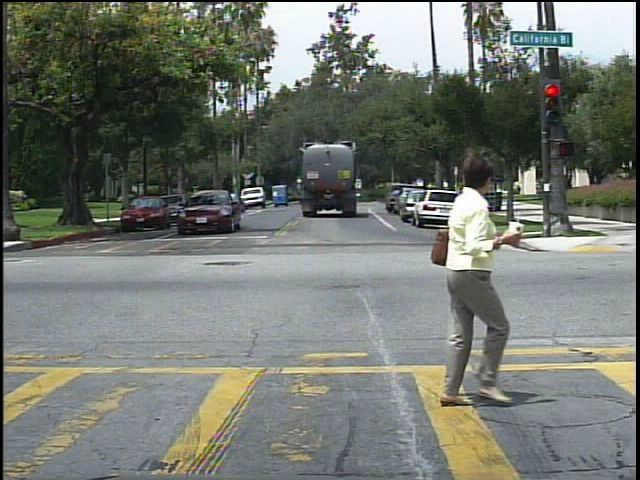person: (408, 140, 528, 412), (513, 180, 526, 199)
